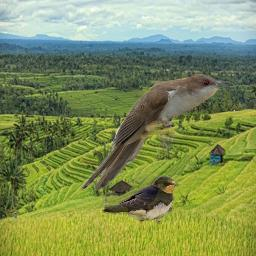Cuckoo: (81, 74, 234, 189)
Swallow: (102, 175, 179, 224)
